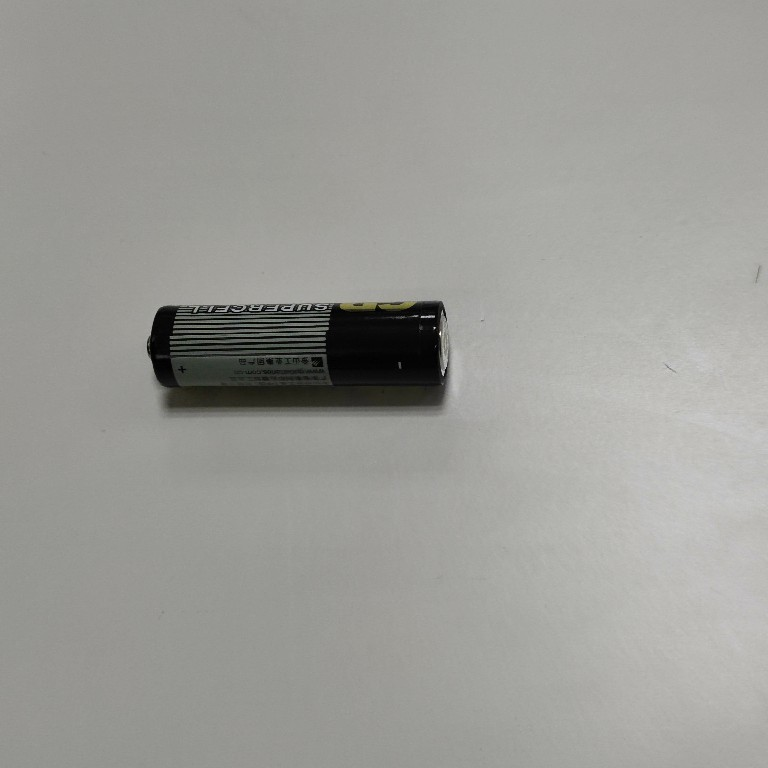charge: (140, 297, 458, 395)
